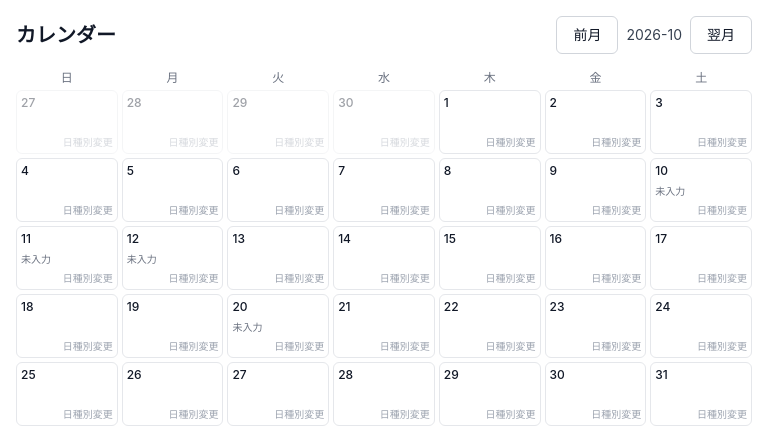
Test: CalendarPage の月移動 › starts on the current month and steps back and forward
This screenshot has width=769, height=443.
Expected: the heading "カレンダー" is shown, [16, 21, 116, 49]
Expected: the text "2026-10" is shown, [626, 25, 682, 45]
Click the button "前月": [587, 35] box [556, 16, 618, 54]
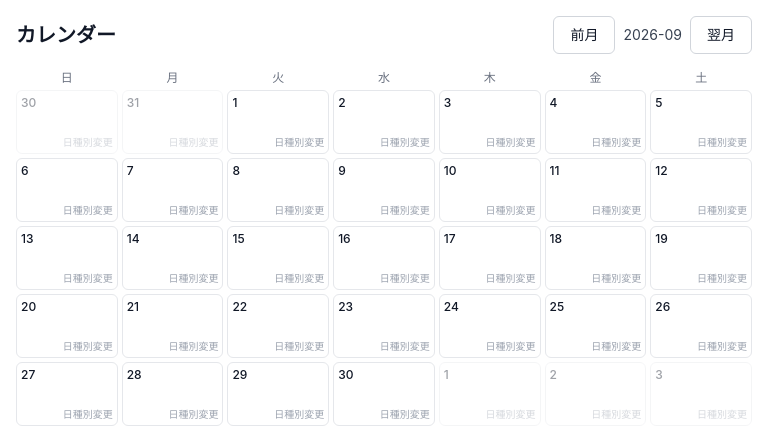
Expected: the text "2026-10" is gone
Click the button "翌月": [721, 35] box [690, 16, 752, 54]
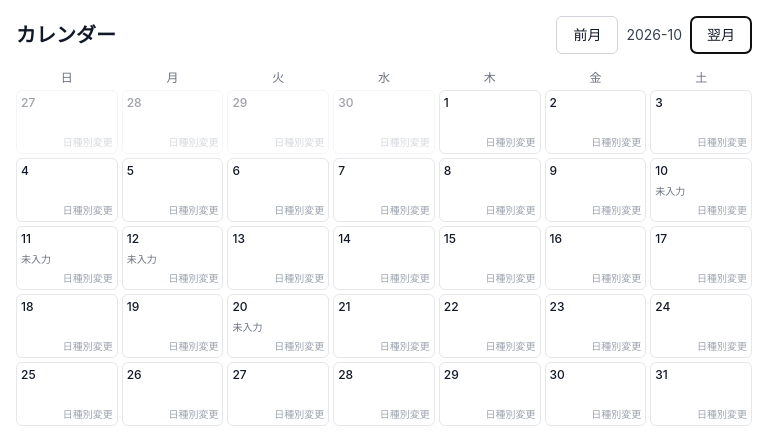
Expected: the text "2026-10" is shown, [626, 25, 682, 45]
